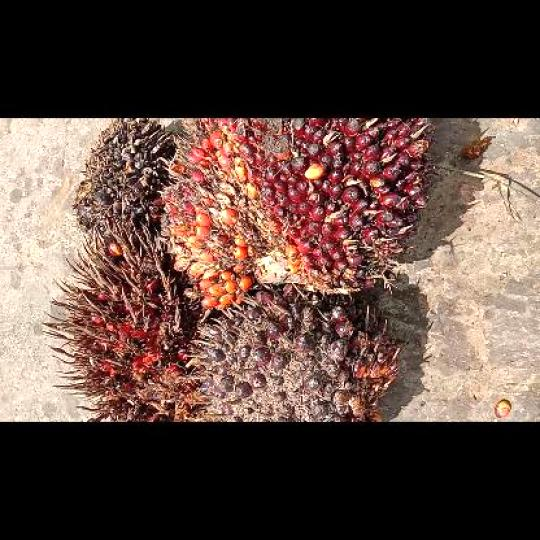kurang masak: (187, 286, 400, 420)
masak: (162, 118, 433, 310)
terlalu masak: (46, 216, 194, 420)
